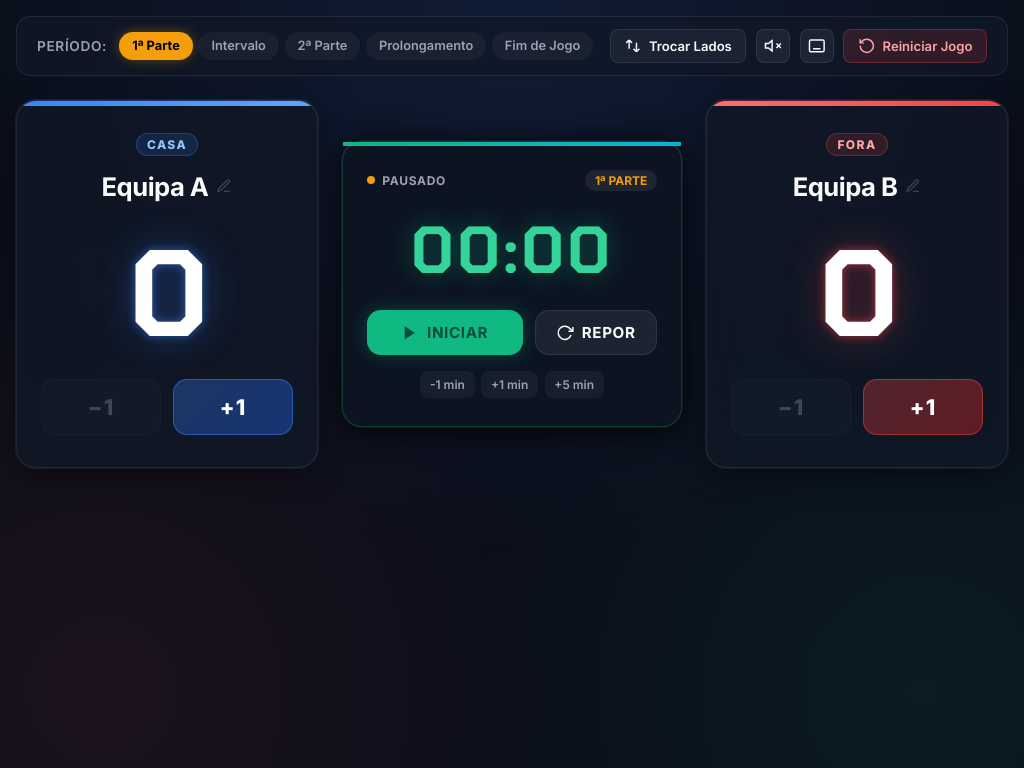
Test: ScoreboardComponent › should increment and decrement home score via UI clicks
This screenshot has width=1024, height=768.
Expected: the button with class "home-dec" is disabled, [41, 379, 161, 435]
Click the button with class "home-inc": (233, 407) [173, 379, 293, 435]
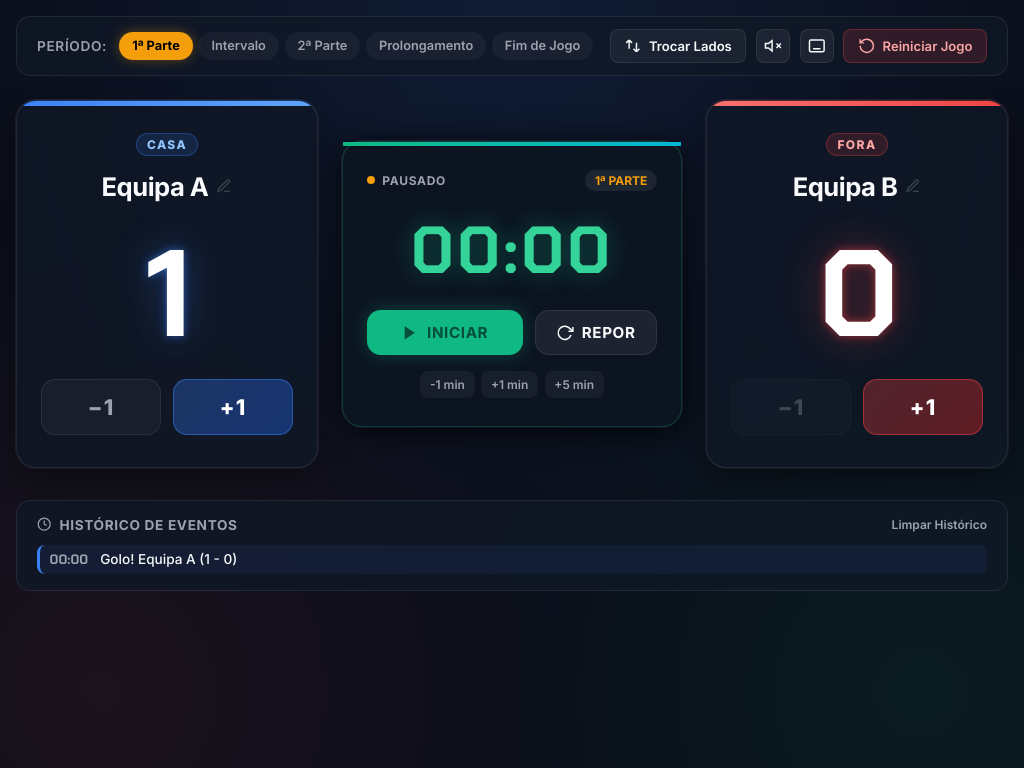
Result: the button with class "home-dec" is enabled
Click the button with class "home-dec": (101, 407) [41, 379, 161, 435]
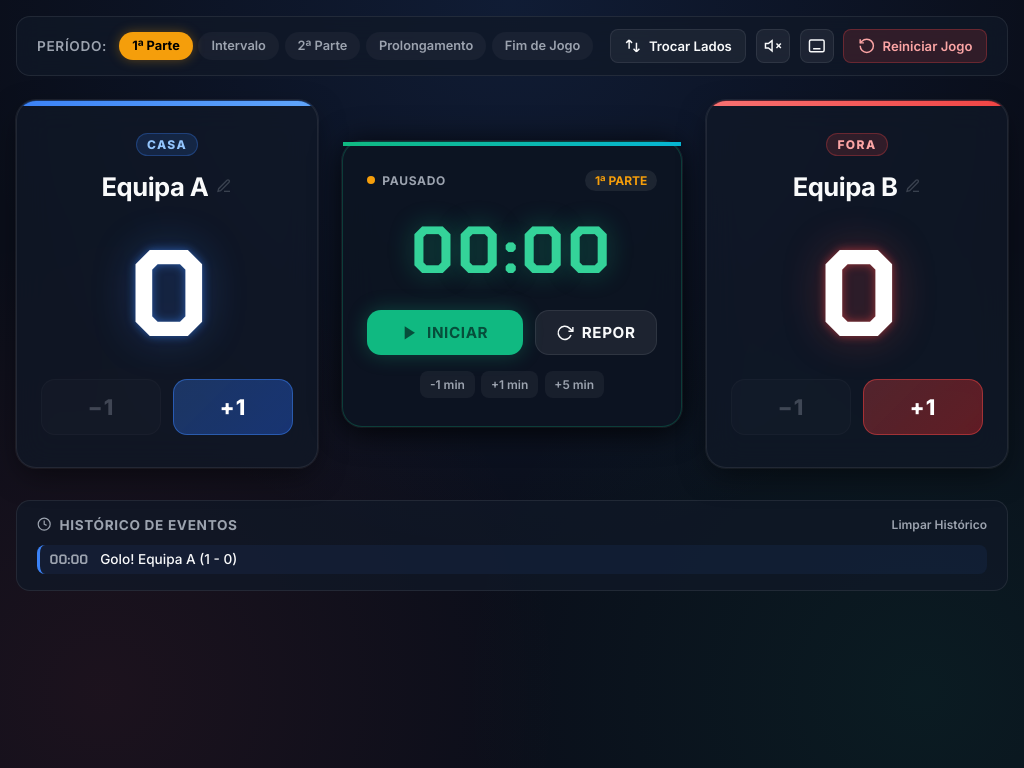
Result: the button with class "home-dec" is disabled at [41, 379, 161, 435]
